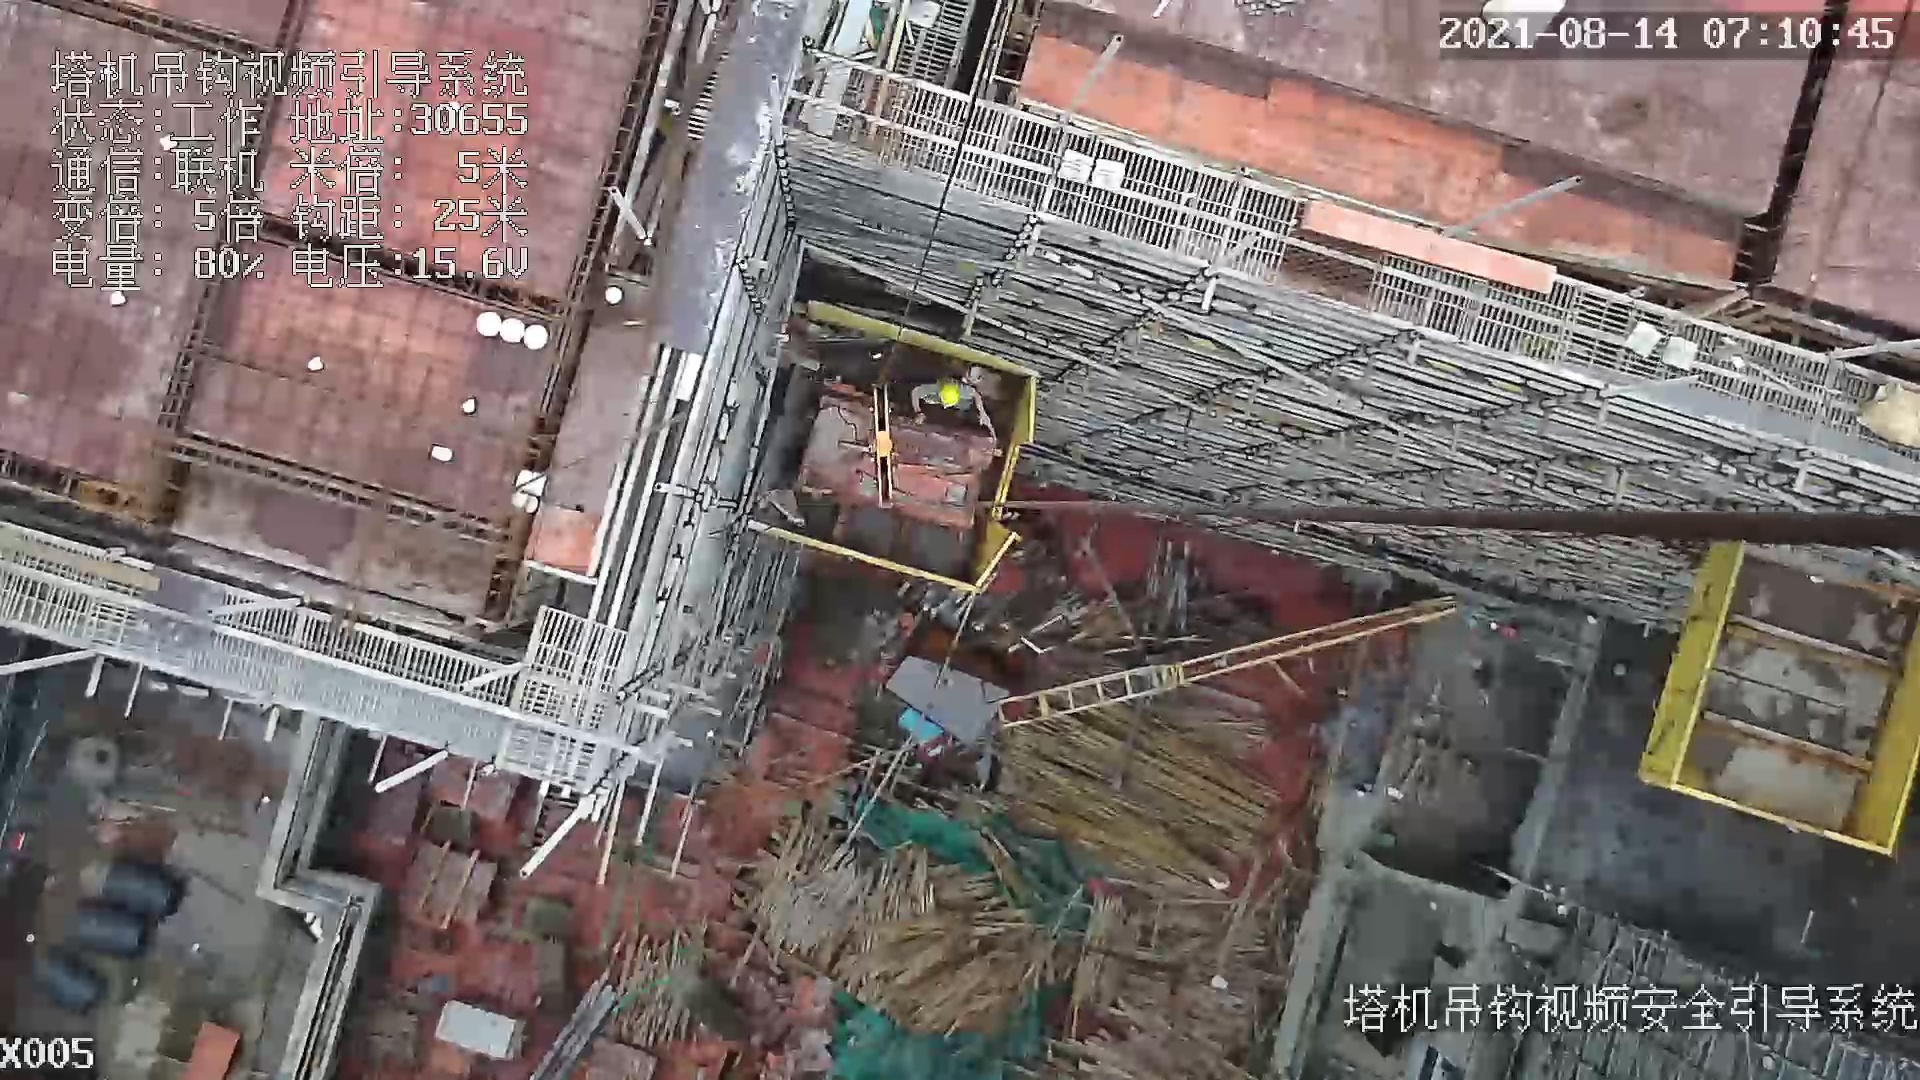helmet: (938, 383, 960, 408)
hook: (859, 381, 903, 513)
person: (912, 380, 1000, 449)
